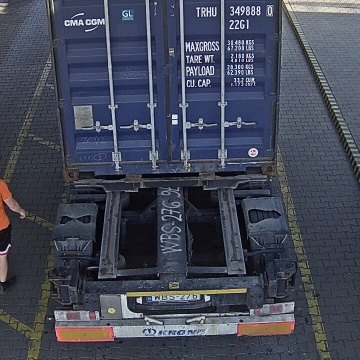serial_id: (196, 5, 273, 17)
